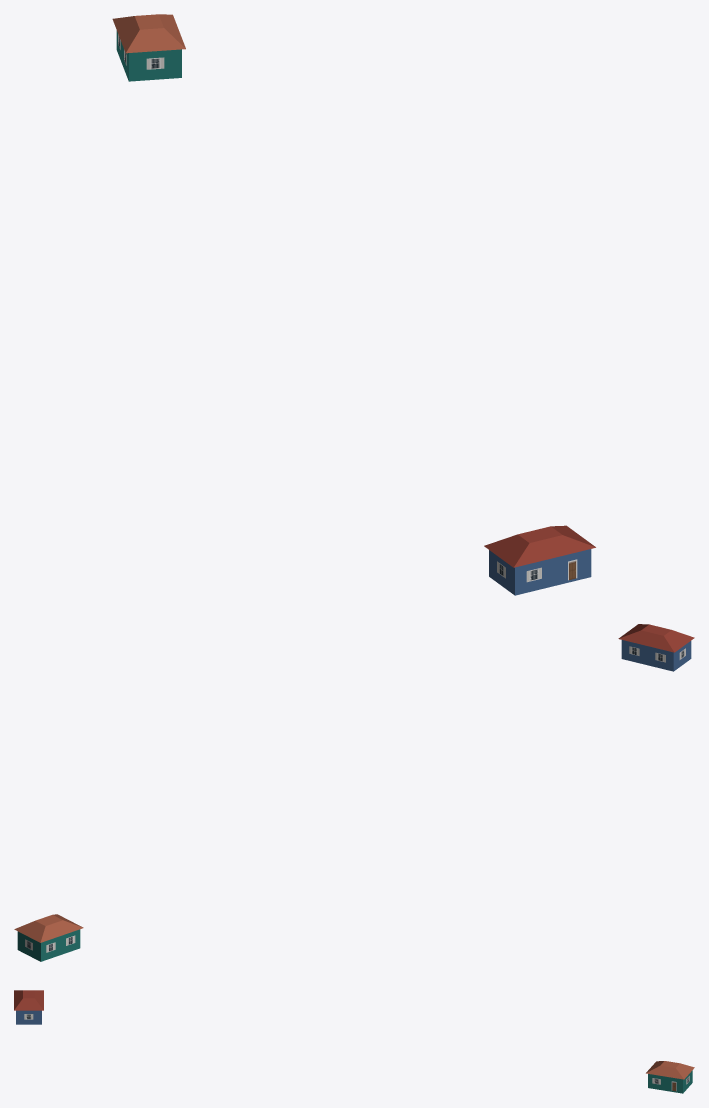
File: msb_noord_m11_m14.glb
3 renders of one model, top to bottom at view 1: azimuth 30°, elevation 25°; view 2: azimuth 150°, elevation 25°; view 3: azimuth 270°, elevation 25°, orthographic. The views are drawn at different scales.
Visible parts, largest first — view 1: msb_noord_m11_m14_lod0; view 2: msb_noord_m11_m14_lod0; view 3: msb_noord_m11_m14_lod0.
Part boxes in pixels (bbox=[...]): msb_noord_m11_m14_lod0: bbox=[112, 14, 595, 595]; msb_noord_m11_m14_lod0: bbox=[14, 624, 694, 961]; msb_noord_m11_m14_lod0: bbox=[14, 990, 694, 1093].
Size of what is drawn, in the model's own units: 40.12 by 6.98 by 144.
2 materials, 1 textured.
